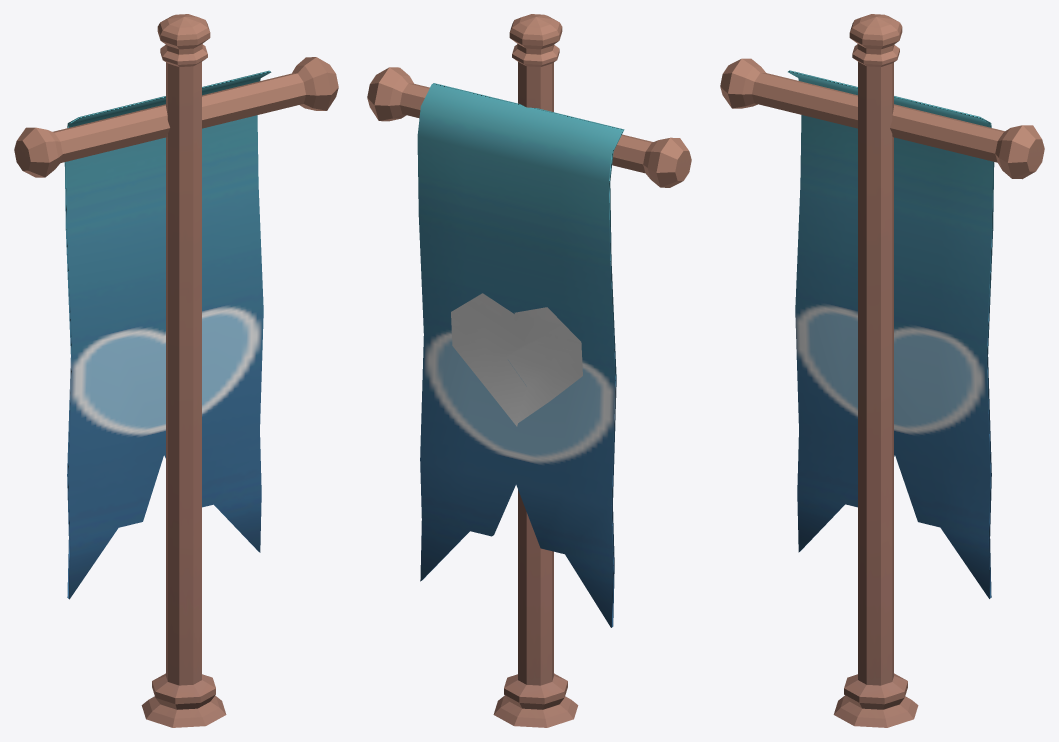
The model's file is Flag.fbx.
The picture shows the model from 3 angles, left to right: view 1: azimuth 30°, elevation 25°; view 2: azimuth 150°, elevation 25°; view 3: azimuth 330°, elevation 25°; orthographic projection.
Visible parts, largest first — view 1: flag_shape2, flag_shape3, flag_bot, flag_top, flag_shape1, flag_shape4, flag_horiz; view 2: flag_shape1, flag_shape3, flag_shape2, flag_shape4, flag_bot, flag_heartR, flag_horiz, flag_heartL, flag_top; view 3: flag_shape2, flag_shape3, flag_bot, flag_top, flag_shape1, flag_shape4, flag_horiz.
Part boxes in pixels (x1,y1,x2,y2): flag_shape2: [65, 184, 263, 357]; flag_shape3: [67, 311, 263, 476]; flag_bot: [141, 367, 226, 727]; flag_top: [157, 14, 210, 376]; flag_shape1: [64, 70, 271, 230]; flag_shape4: [67, 430, 261, 599]; flag_horiz: [14, 57, 338, 177]; flag_shape1: [417, 83, 624, 261]; flag_shape3: [420, 334, 616, 505]; flag_shape2: [418, 215, 616, 380]; flag_shape4: [420, 459, 614, 627]; flag_bot: [493, 490, 578, 727]; flag_heartR: [451, 293, 526, 426]; flag_horiz: [367, 67, 691, 187]; flag_heartL: [506, 307, 582, 424]; flag_top: [509, 14, 562, 111]; flag_shape2: [795, 184, 993, 356]; flag_shape3: [795, 310, 991, 476]; flag_bot: [833, 368, 918, 727]; flag_top: [849, 14, 902, 376]; flag_shape1: [788, 70, 994, 230]; flag_shape4: [797, 430, 991, 598]; flag_horiz: [720, 58, 1044, 179].
Size of the model in its own units: 88.29 by 190 by 22.65.
Materials: 1 (1 with a texture image).
